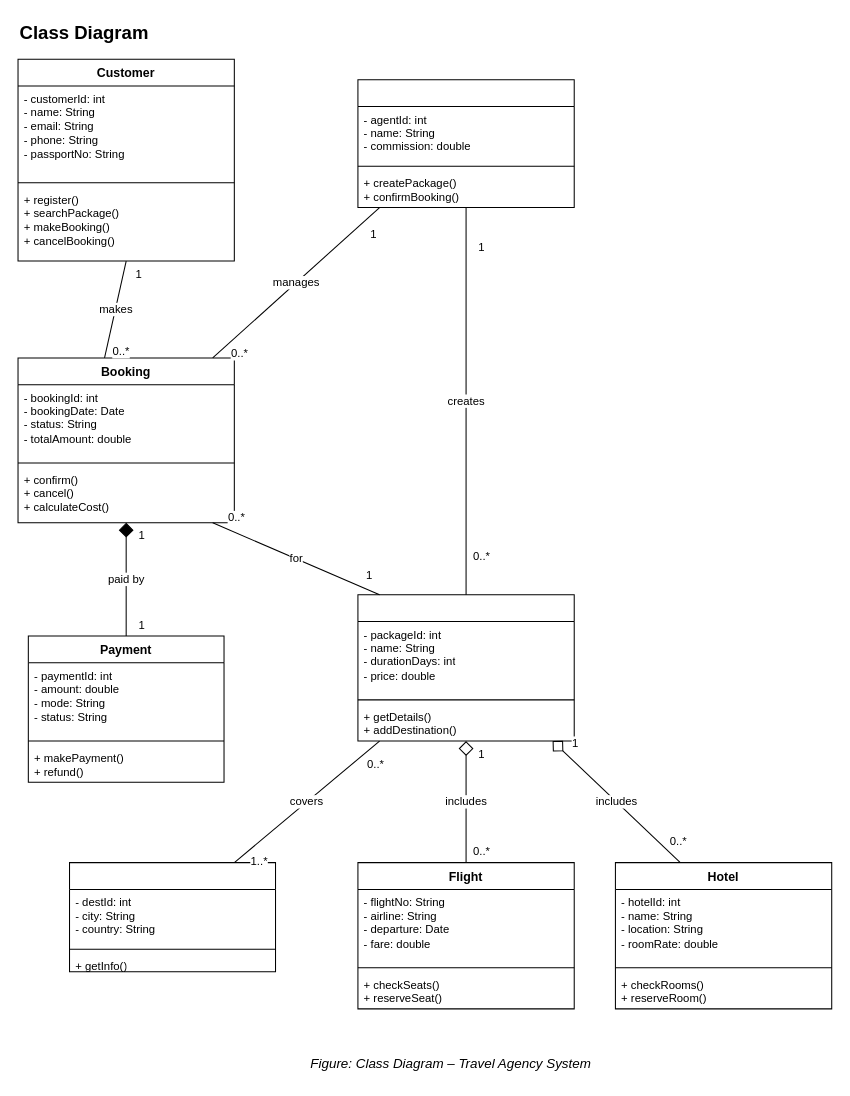
This 850x1096 diagram has some shape labels left out. The box of each missing label's shape, as (x1, y1, x2, y2) in pixels:
Destination: (68, 862, 276, 972)
TourPackage: (357, 594, 574, 741)
TravelAgent: (357, 79, 574, 208)
